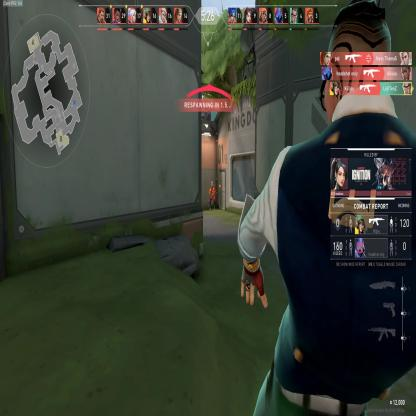enemy: (208, 182, 216, 210)
